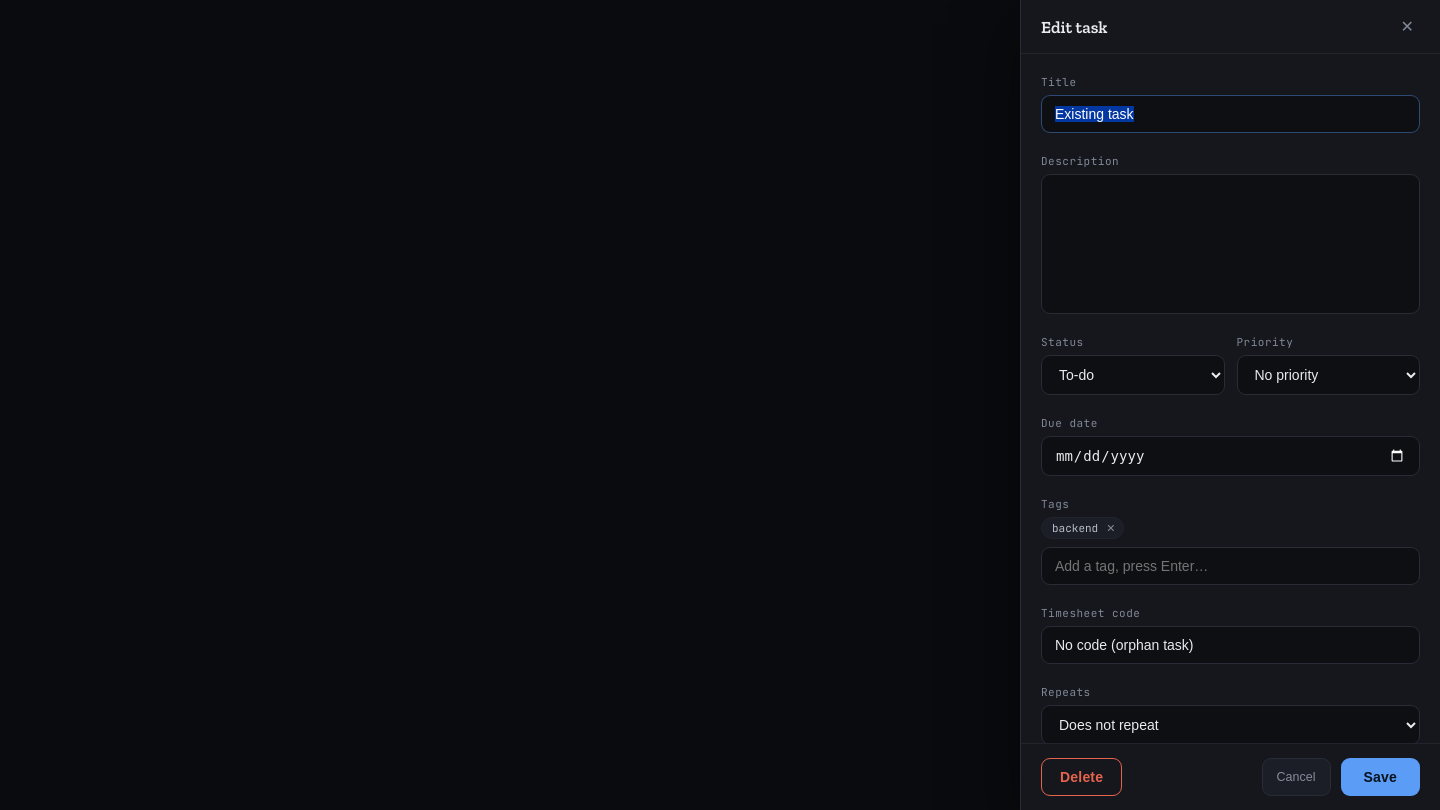
Test: TaskPanel › cancels the delete via Keep, leaving the task intact
What coordinates should you click on to do the following:
click the button with test id "wk-task-delete"
I would click on:
 (1082, 777)
Its box is [1041, 758, 1122, 796].
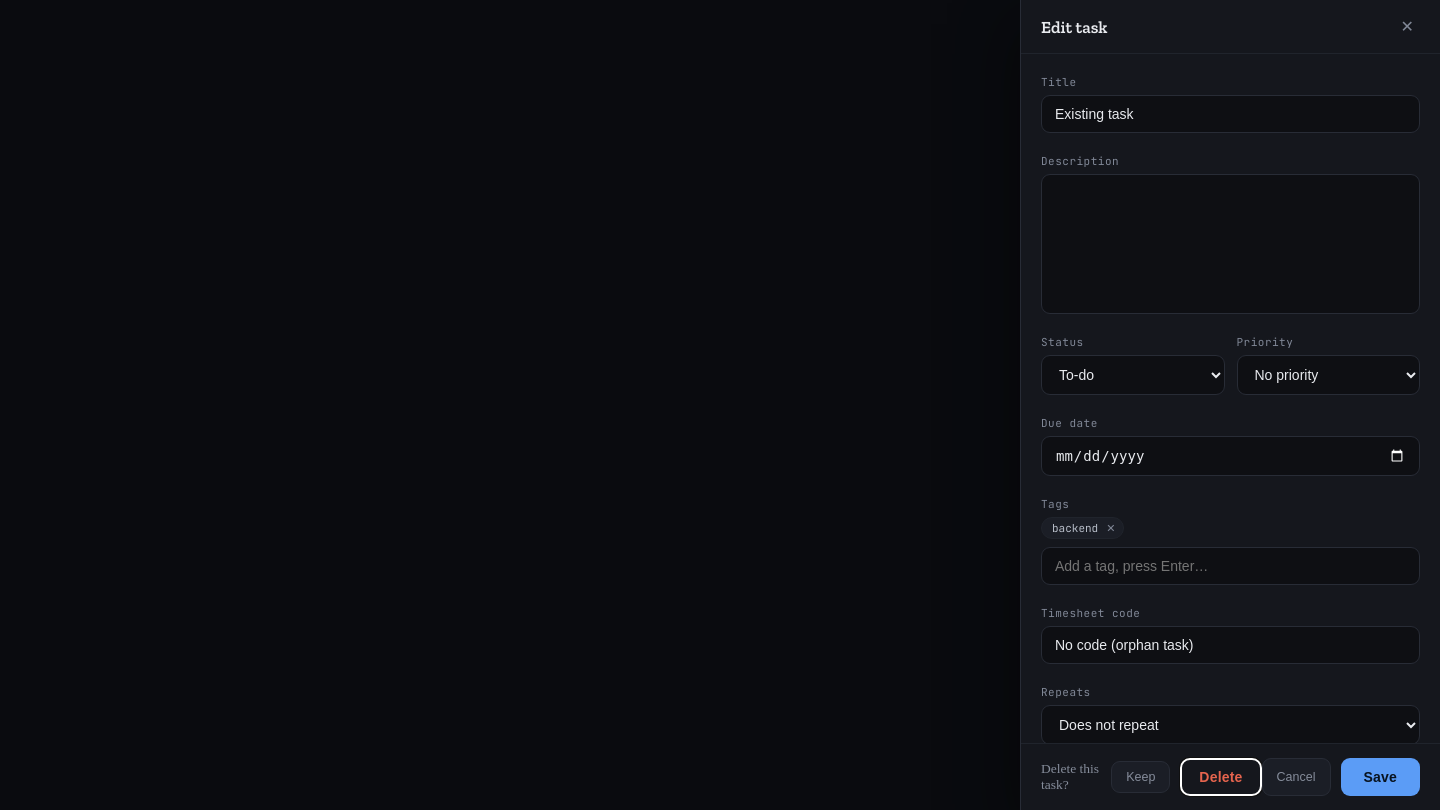
What coordinates should you click on to do the following:
click the button with test id "wk-task-delete-cancel"
I would click on:
 (1141, 777)
Its box is [1111, 761, 1170, 793].
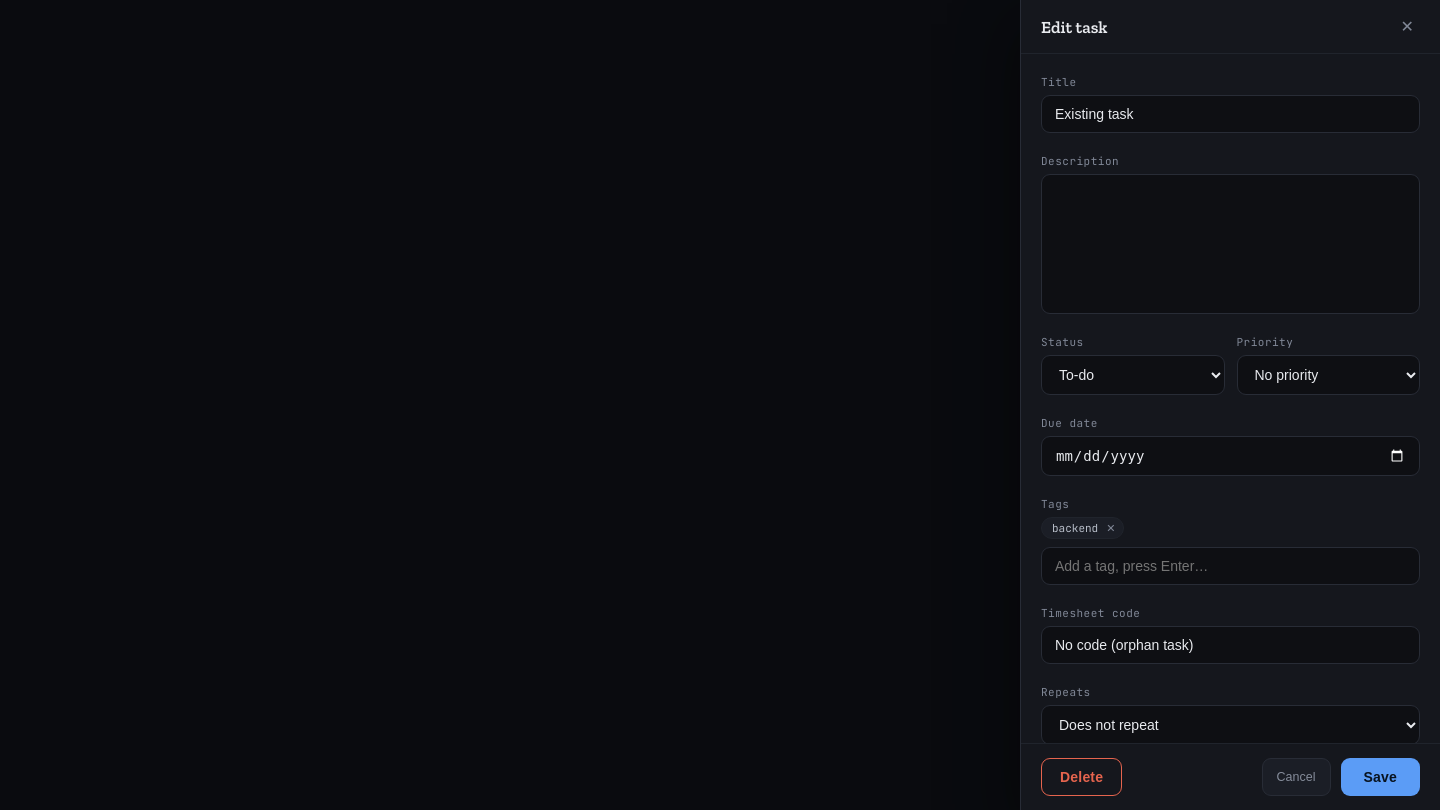
Expected: the button with test id "wk-task-delete" is shown, [1041, 758, 1122, 796]
Expected: the text "Delete this task?" is gone
